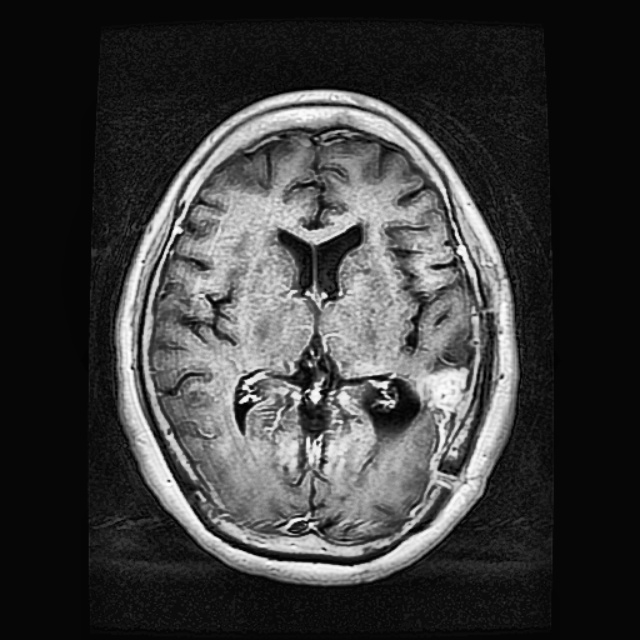Glioma: (423, 367, 464, 448)
